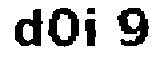0: (47, 5, 82, 52)
9: (112, 4, 154, 52)
d: (13, 5, 45, 50)
i: (83, 4, 98, 50)
